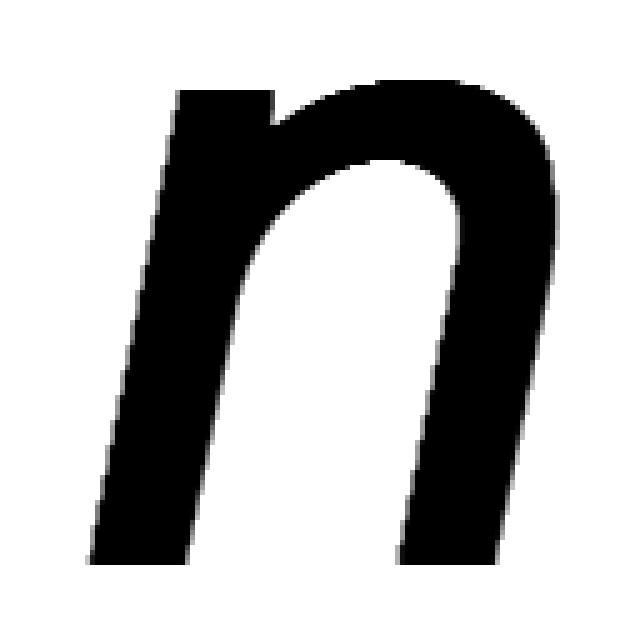N: (80, 70, 565, 570)
